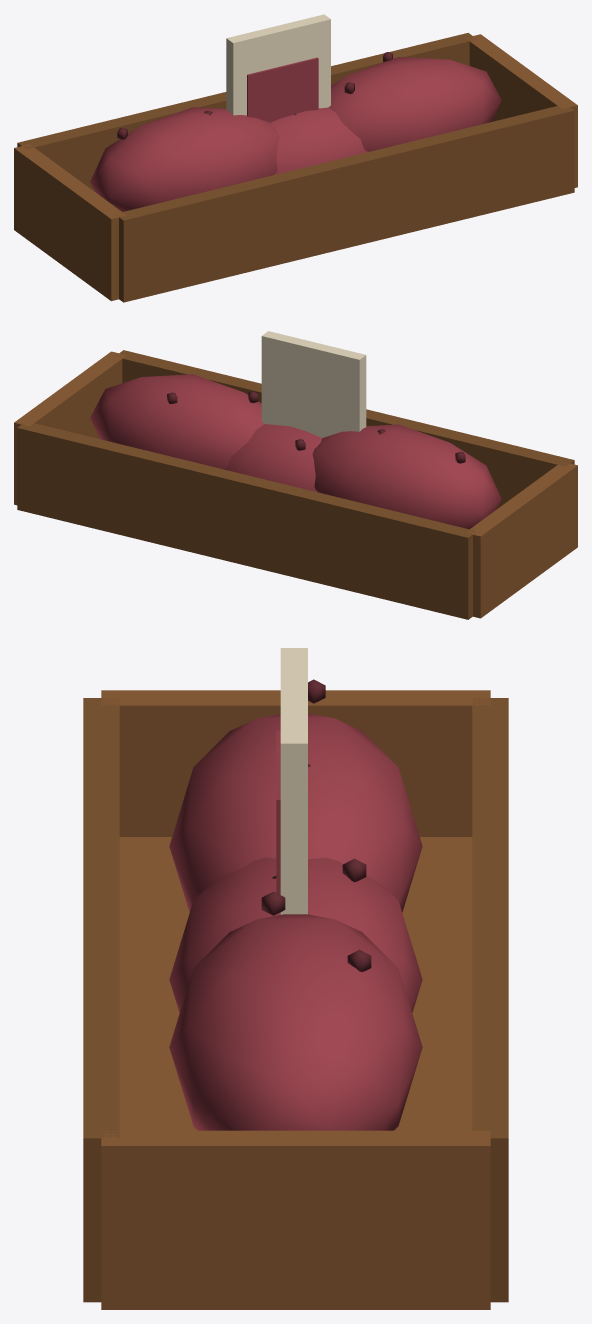
Rendered from Veg_SweetPotato.fbx.
3 renders of one model, top to bottom at view 1: azimuth 30°, elevation 25°; view 2: azimuth 150°, elevation 25°; view 3: azimuth 270°, elevation 25°, orthographic. The views are drawn at different scales.
Parts seen in each view (by area): view 1: Veg_SweetPotato__Stack, Veg_SweetPotato__Seed, Veg_SweetPotato; view 2: Veg_SweetPotato__Stack, Veg_SweetPotato__Seed, Veg_SweetPotato; view 3: Veg_SweetPotato__Stack, Veg_SweetPotato, Veg_SweetPotato__Seed.
Boxes of the visible parts, x1,y1,x2,y2 form: Veg_SweetPotato__Stack: (14,33,577,302); Veg_SweetPotato__Seed: (226,14,330,122); Veg_SweetPotato: (270,107,367,174); Veg_SweetPotato__Stack: (14,350,577,619); Veg_SweetPotato__Seed: (261,331,366,437); Veg_SweetPotato: (224,424,322,492); Veg_SweetPotato__Stack: (83,679,508,1309); Veg_SweetPotato: (169,857,422,1012); Veg_SweetPotato__Seed: (276,648,307,914).
Size of the model in its own units: 0.2382 by 0.09 by 0.094.
